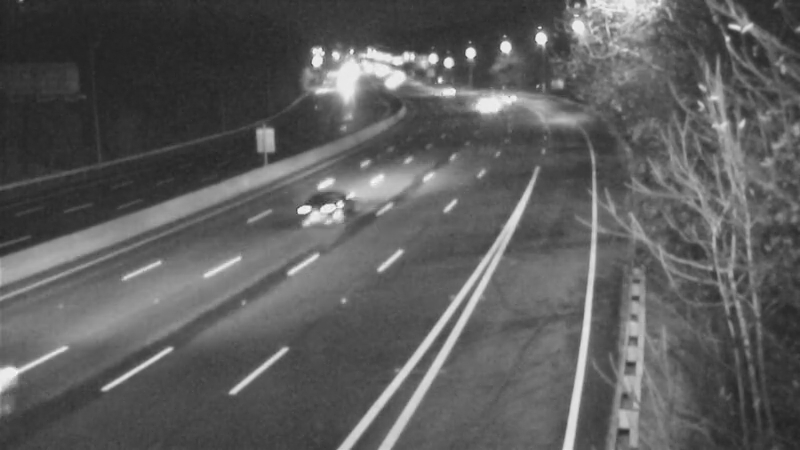vehicle: (281, 166, 361, 246), (427, 68, 477, 118), (479, 72, 529, 122), (461, 79, 511, 129)
